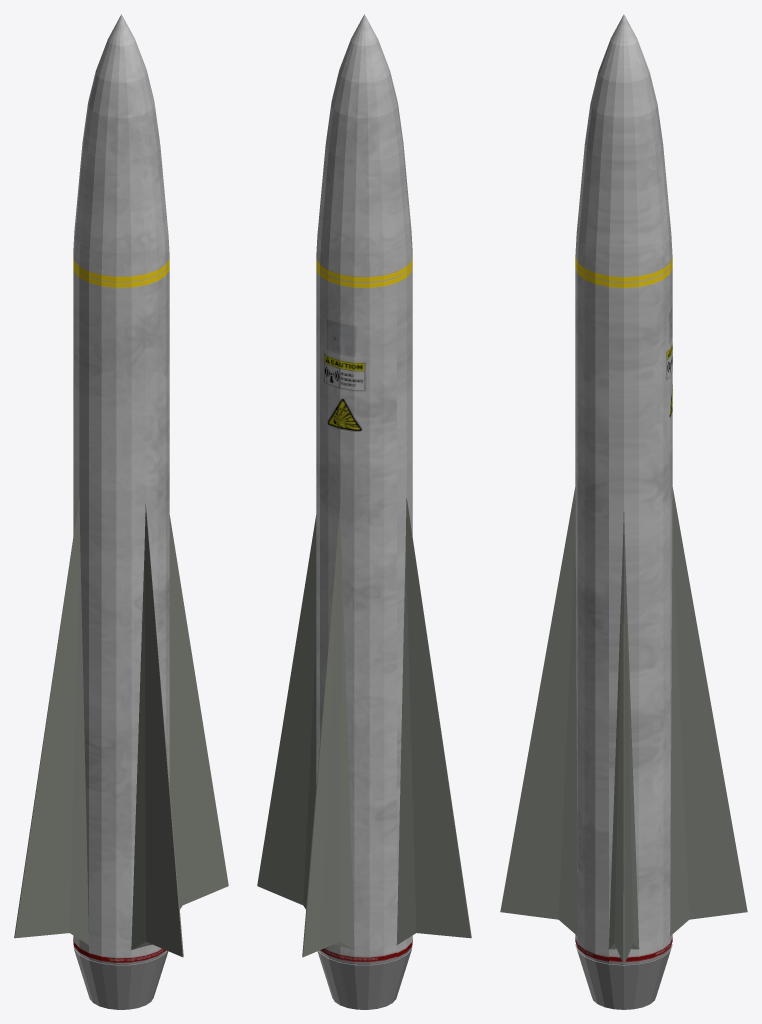
File: rocket.obj
3 views of the same model, side by side, from view 1: azimuth 30°, elevation 25°; view 2: azimuth 150°, elevation 25°; view 3: azimuth 270°, elevation 25° (orthographic).
Visible parts, largest first — view 1: rocket.001; view 2: rocket.001; view 3: rocket.001.
Boxes of the visible parts, <box> form: rocket.001: <box>14,14,228,1009</box>; rocket.001: <box>257,14,471,1009</box>; rocket.001: <box>500,14,747,1009</box>.
Bounding box in the file's own units: 124 × 545 × 124.
